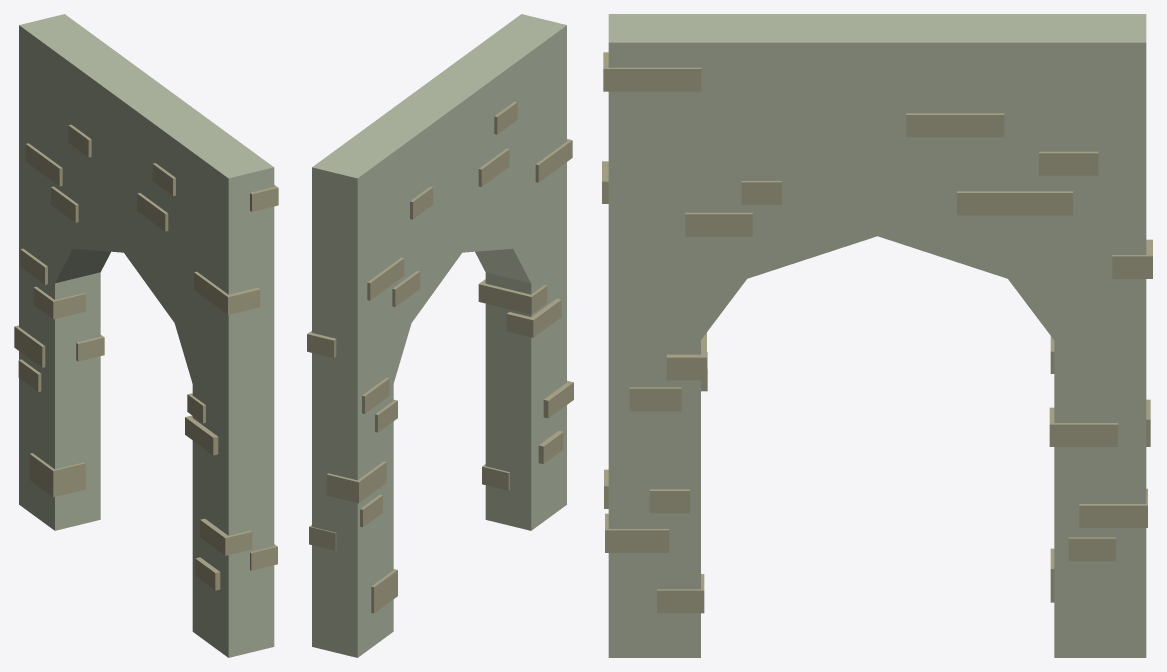
The model's file is gate5m stone1.fbx.
3 views of the same model, side by side, from view 1: azimuth 30°, elevation 25°; view 2: azimuth 150°, elevation 25°; view 3: azimuth 270°, elevation 25° (orthographic). The views are drawn at different scales.
Visible parts, largest first — view 1: Gate1; view 2: Gate1; view 3: Gate1.
Part boxes in pixels (x1,y1,x2,y2): Gate1: (14, 14, 278, 657); Gate1: (307, 14, 573, 657); Gate1: (602, 14, 1152, 657).
Size of the model in its own units: 79.79 by 662 by 537.
